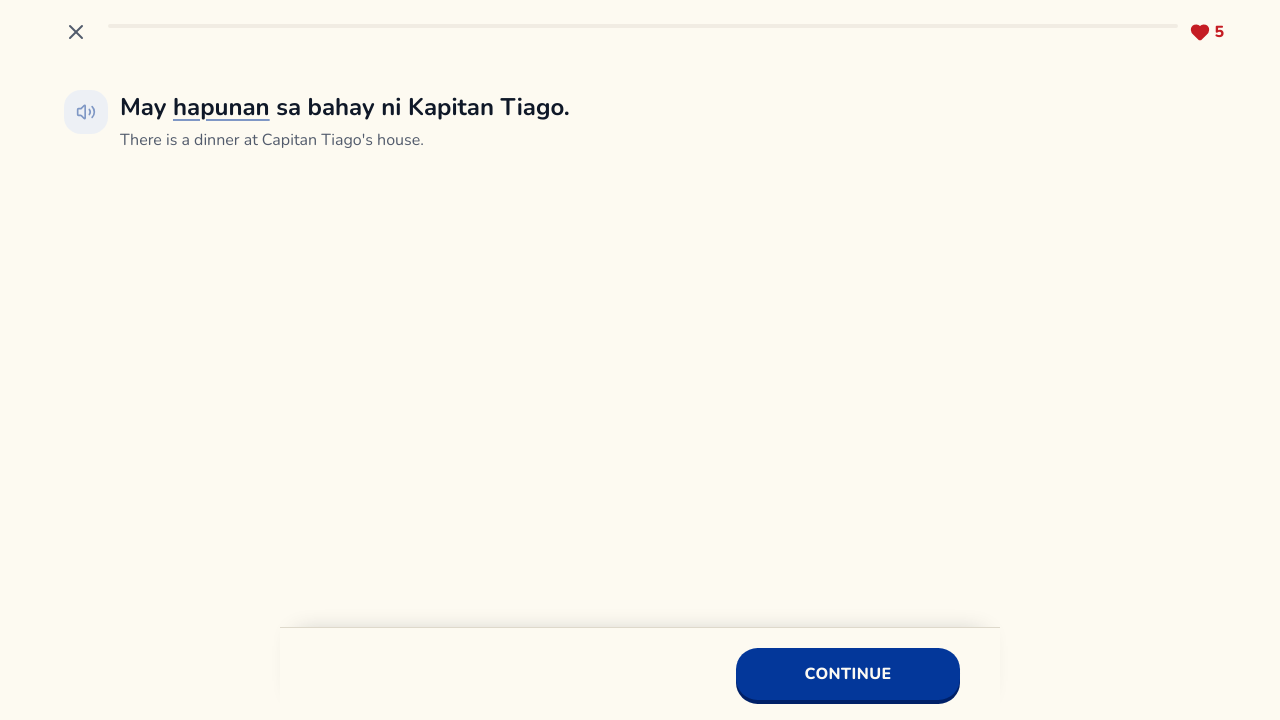
Runner › shows the correct answer and spends a heart on a wrong answer
The image size is (1280, 720).
Click the button "Continue" at (848, 674), box [736, 648, 960, 700]
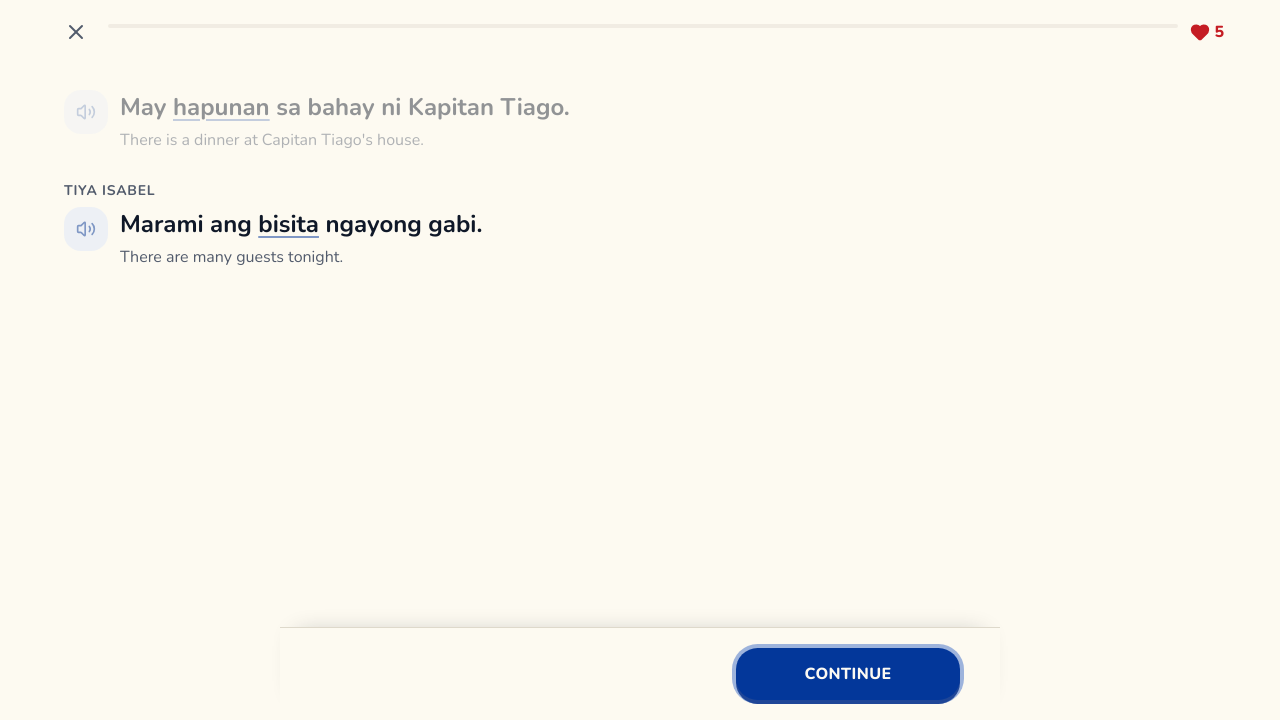
Click the button "Continue" at (848, 674), box [736, 648, 960, 700]
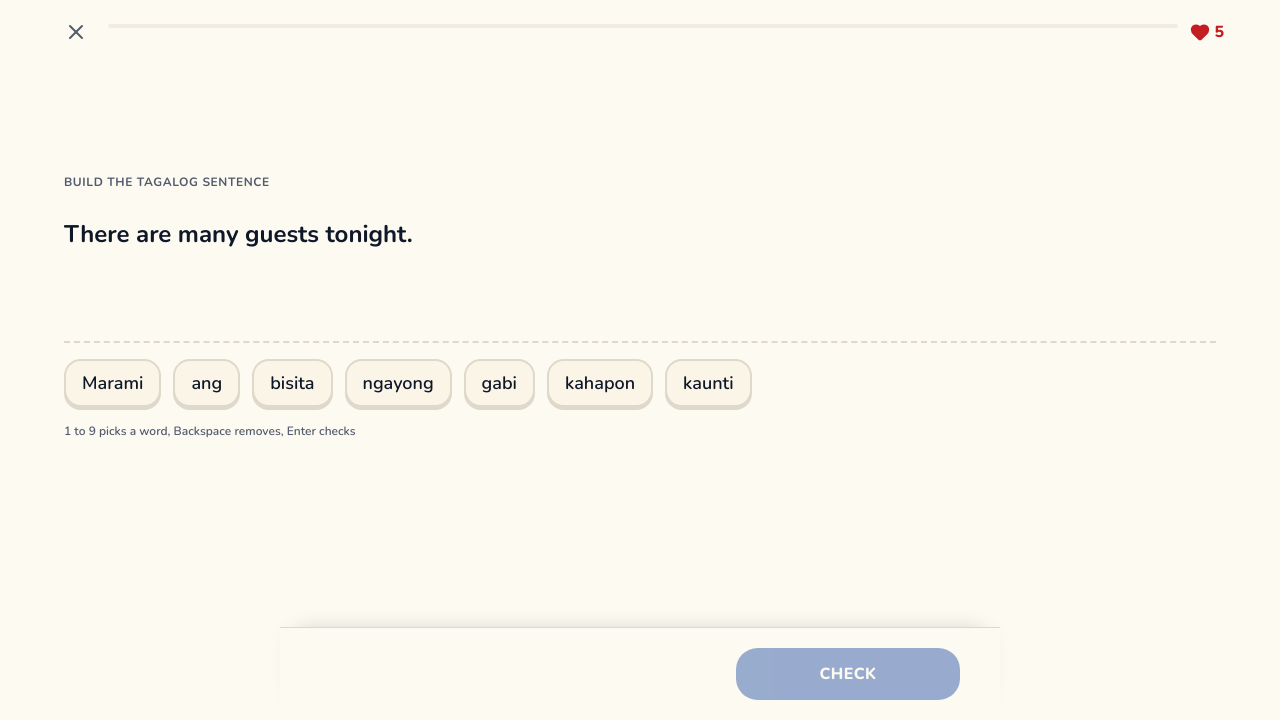
Click the button "gabi" at (499, 383), box [464, 359, 535, 407]
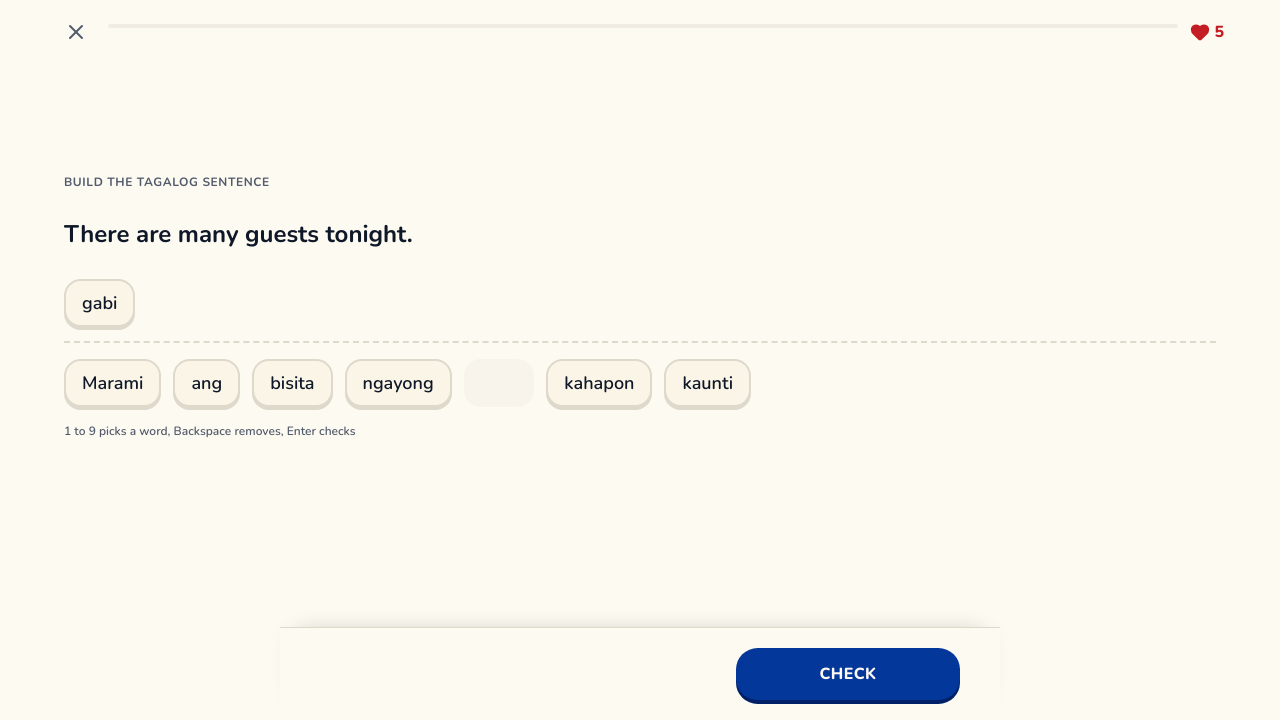
Click the button "Check" at (848, 674), box [736, 648, 960, 700]
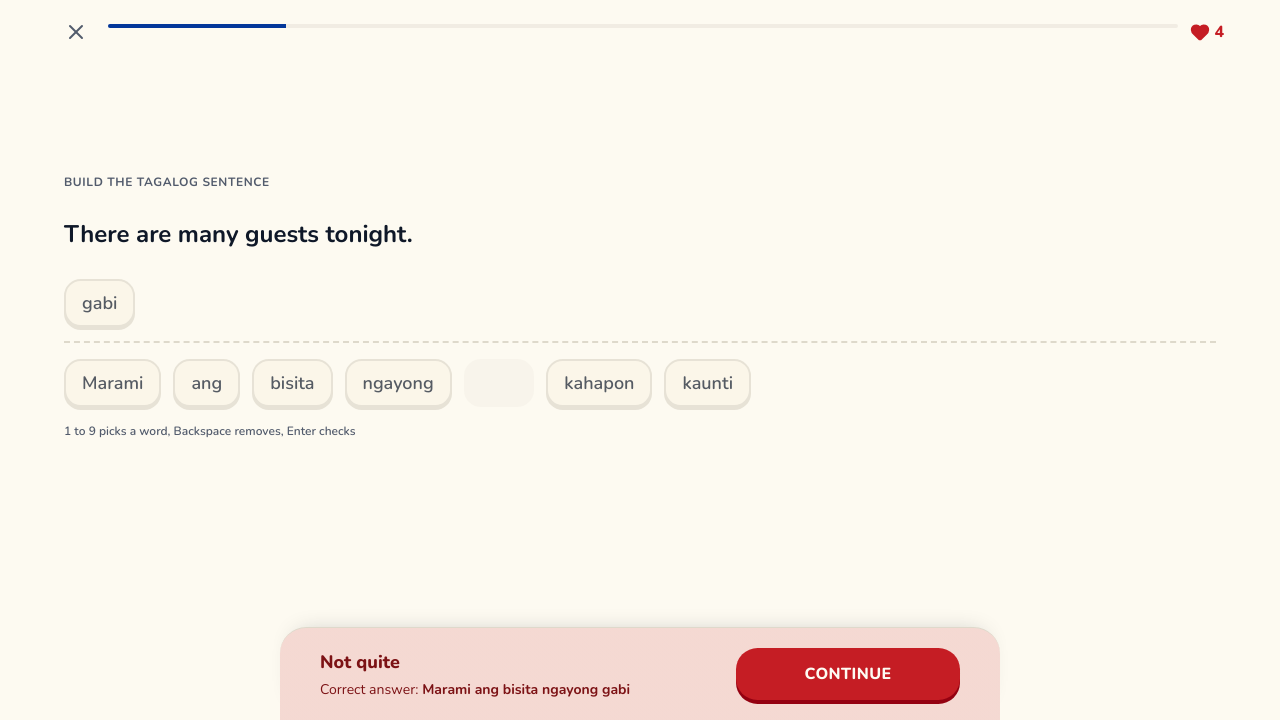
expect the message shows "Marami ang bisita ngayong gabi": met, box [422, 680, 630, 699]
expect the element named "hearts" reads "4": met, box [1214, 21, 1224, 43]
